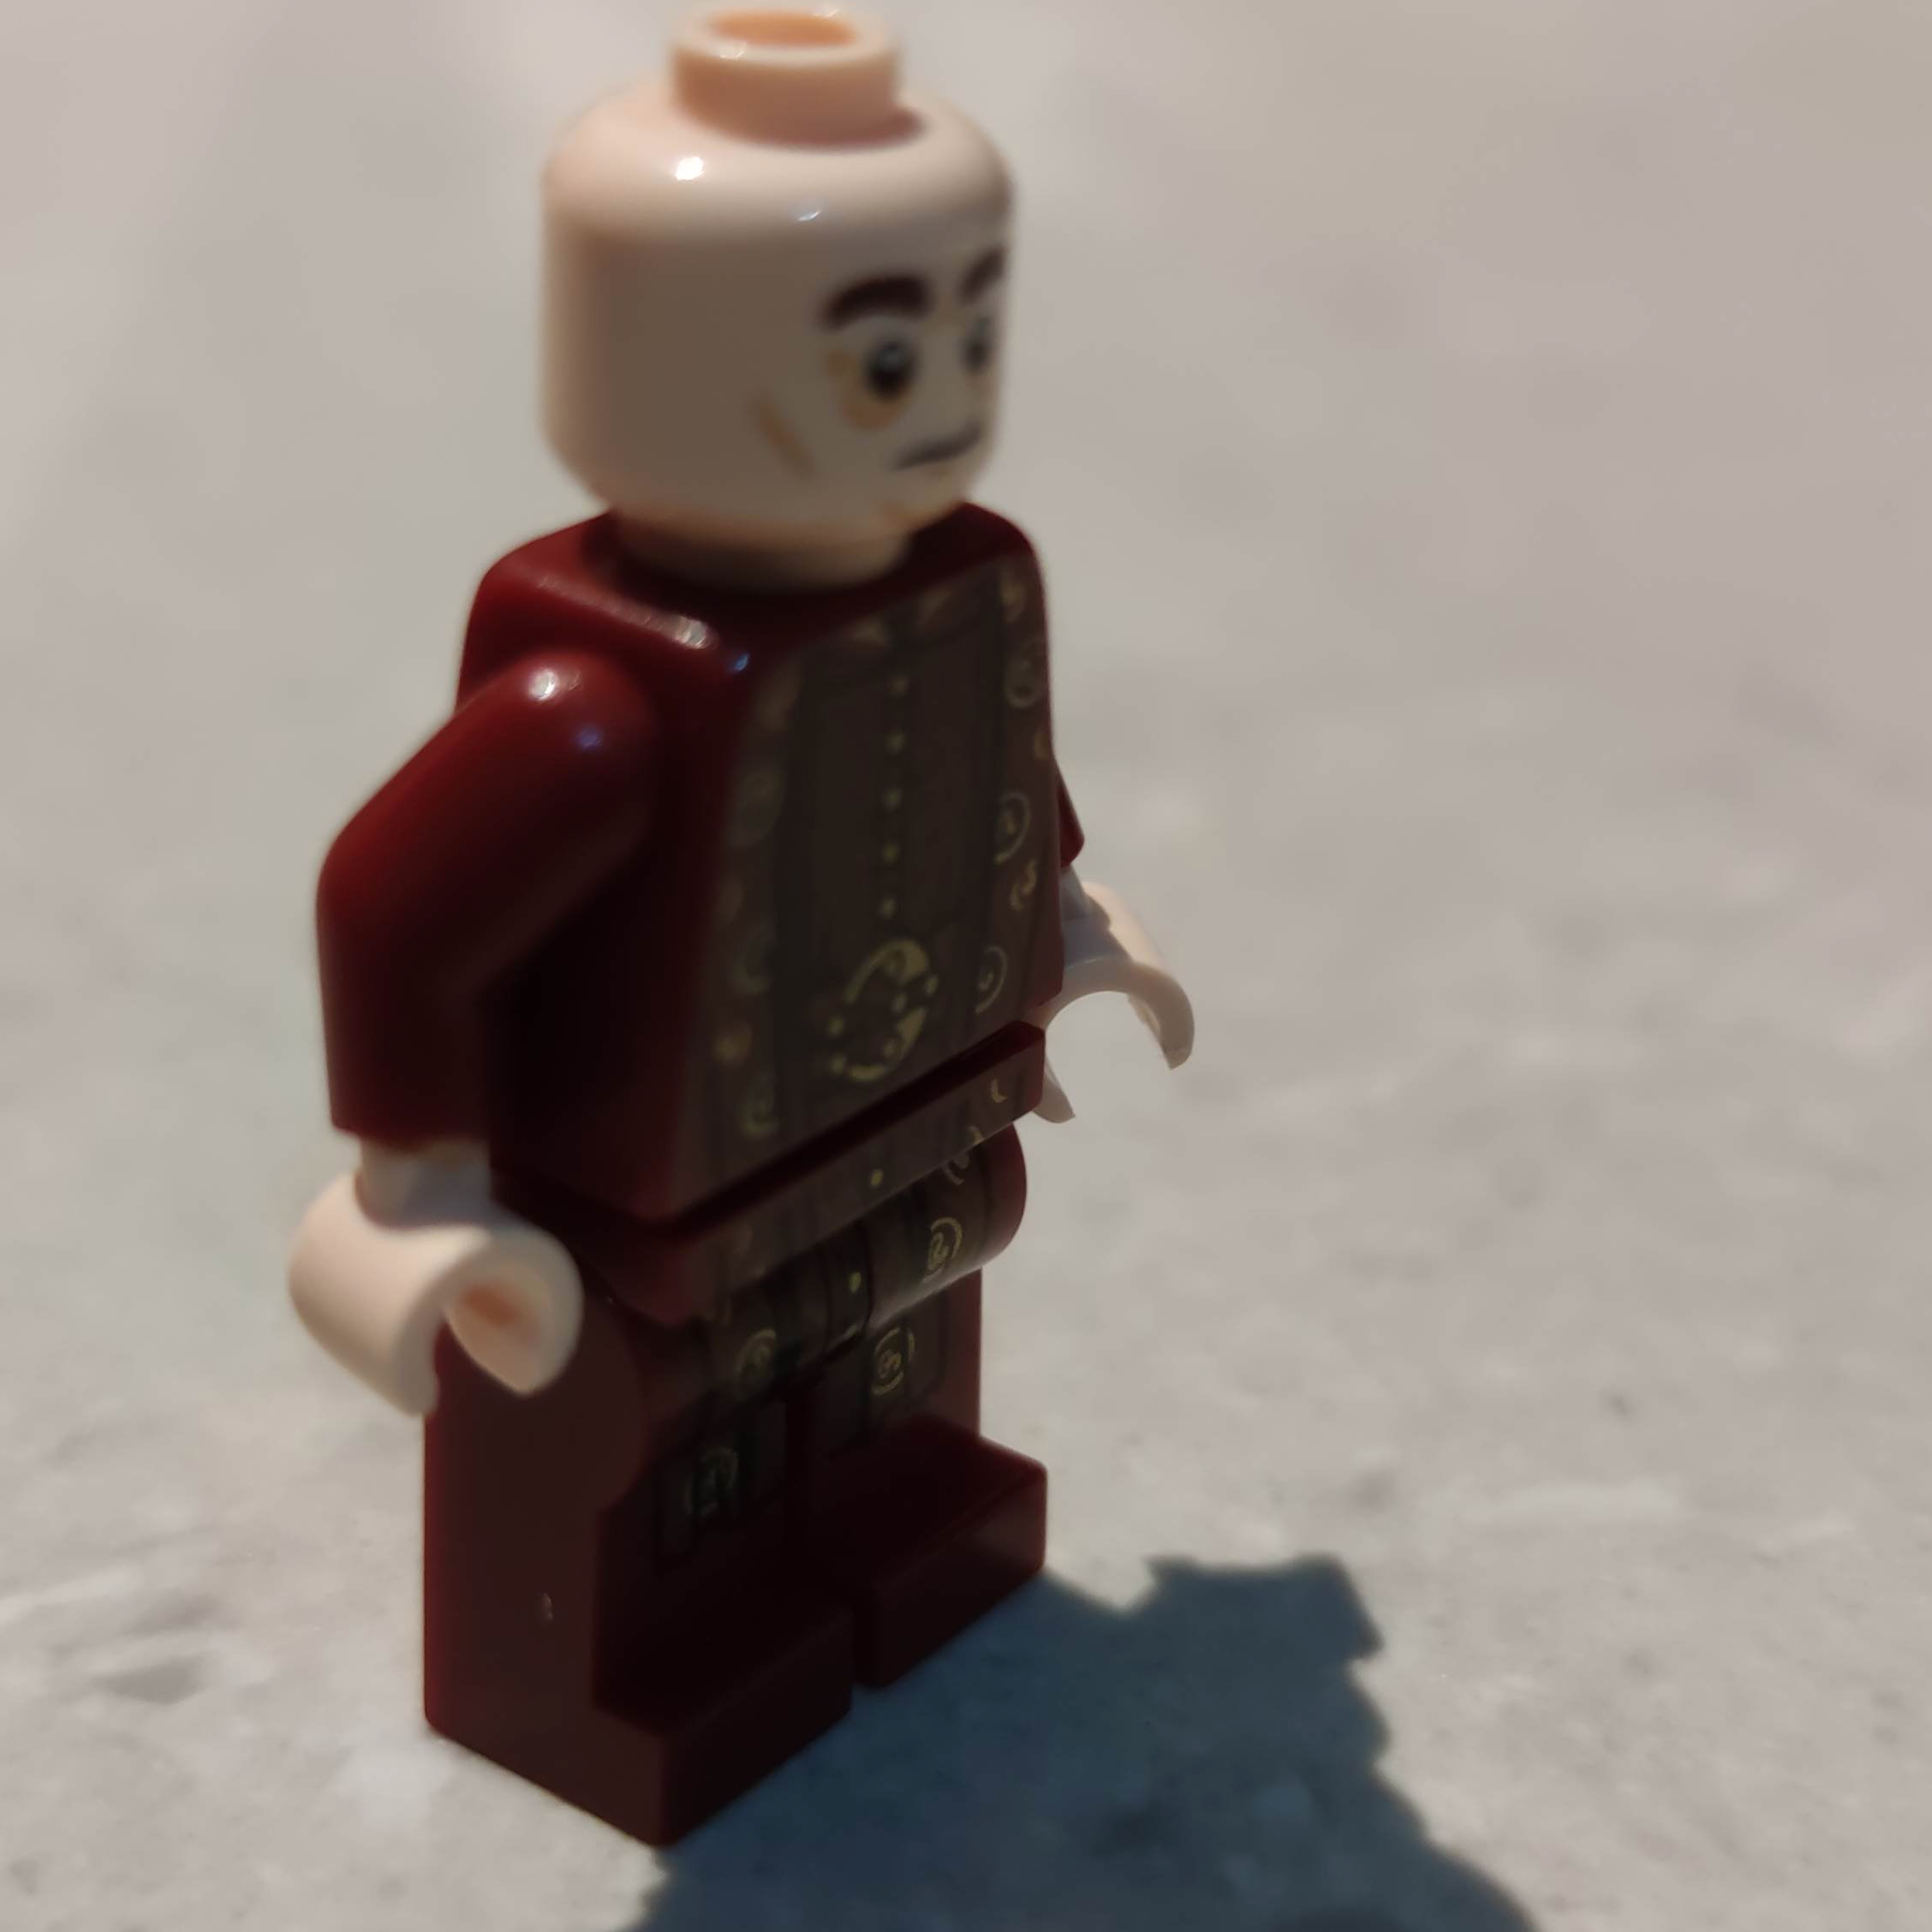lego: (287, 9, 1198, 1852)
